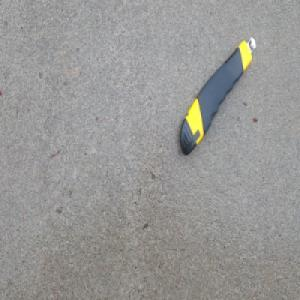Cutter: (176, 34, 255, 156)
